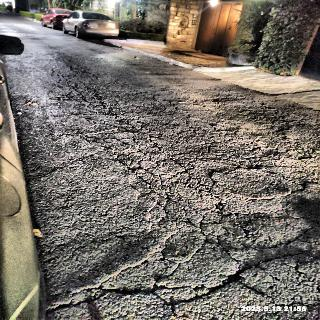alligator-crack: (159, 207, 264, 311), (95, 123, 204, 205)
crack: (210, 122, 288, 218), (41, 246, 158, 306), (52, 54, 118, 139)
